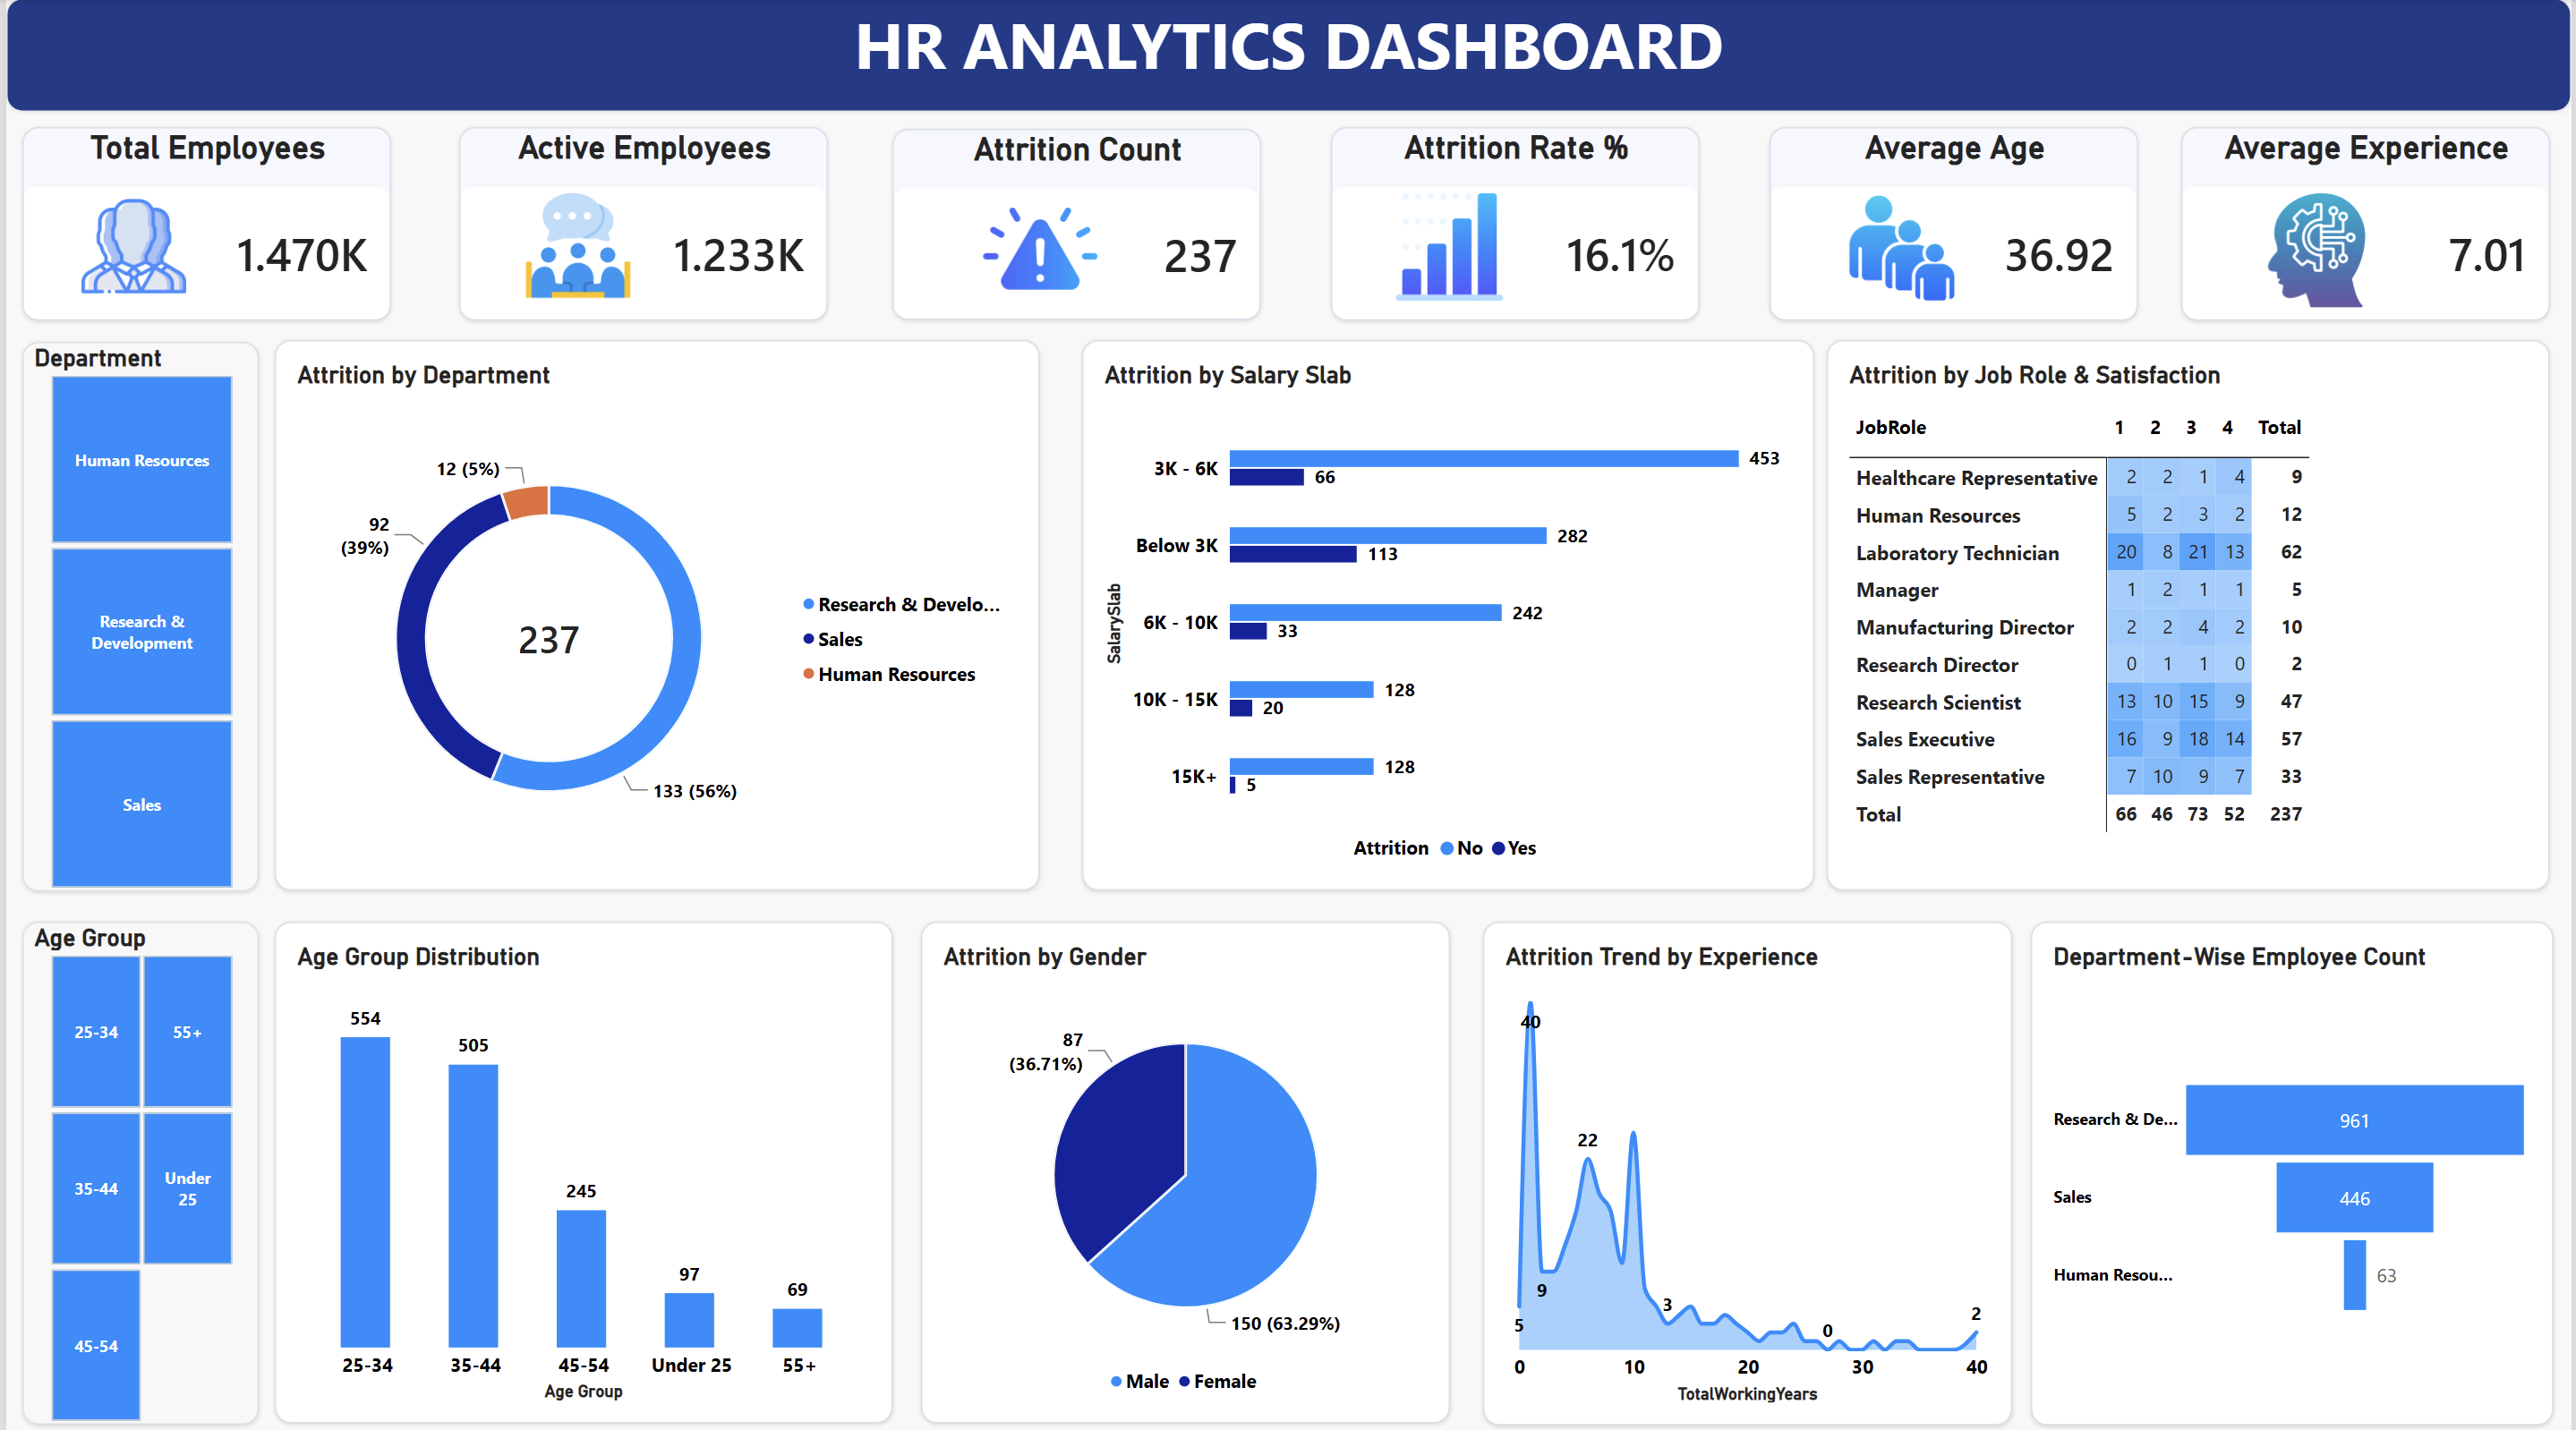

The dashboard page shown, as its layout file describes it:
{"tool":"powerbi","page":{"name":"Page 1","canvas":[1920,1080],"ordinal":0},"visuals":[{"type":"textbox","box":[0,0,1920,85.1],"z":0},{"type":"cardVisual","title":"Total Employees","fields":{"Data":["Employees.Headcounts"]},"box":[12.2,96,275.8,144.9],"z":1000},{"type":"cardVisual","title":"Active Employees","fields":{"Data":["Employees.Headcounts"]},"box":[338.6,96,275.8,144.9],"z":2000},{"type":"cardVisual","title":"Attrition Count","fields":{"Data":["Sum(Employees.AttritionCount)"]},"box":[663.3,97.7,275.8,143.1],"z":3000},{"type":"cardVisual","title":"Attrition Rate %","fields":{"Data":["Employees.Attrition Rate %"]},"box":[991.4,96,275.8,144.9],"z":4000},{"type":"cardVisual","title":"Average Age","fields":{"Data":["Avg(Employees.Age)"]},"box":[1319.6,96,275.8,144.9],"z":5000},{"type":"cardVisual","title":"Average Experience","fields":{"Data":["Avg(Employees.YearsAtCompany)"]},"box":[1628.5,96,275.8,144.9],"z":6000},{"type":"image","box":[55.9,113.5,78.5,143.1],"z":7000},{"type":"image","box":[338.6,144.9,178,80.3],"z":8000},{"type":"image","box":[684.2,144.9,178,85.5],"z":9000},{"type":"image","box":[1012.4,146.6,134.4,80.3],"z":10000},{"type":"image","box":[1335.3,146.6,165.8,82],"z":11000},{"type":"image","box":[1665.2,146.6,127.4,85.5],"z":12000},{"type":"donutChart","title":"Attrition by Department","fields":{"Category":["Employees.Department"],"Y":["Sum(Employees.AttritionCount)"]},"box":[200.7,256.6,572.5,411.9],"z":13000},{"type":"clusteredBarChart","title":"Attrition by Salary Slab","fields":{"Category":["Employees.SalarySlab"],"Series":["Employees.Attrition"],"Y":["Count(Employees.EmployeeNumber)"]},"box":[804.7,256.6,548.1,411.9],"z":14000},{"type":"pivotTable","title":"Attrition by Job Role & Satisfaction","fields":{"Columns":["Employees.JobSatisfaction"],"Rows":["Employees.JobRole"],"Values":["Sum(Employees.AttritionCount)"]},"box":[1363.2,256.6,541.1,411.9],"z":15000},{"type":"columnChart","title":"Age Group Distribution","fields":{"Category":["Employees.Age Group"],"Y":["Employees.Headcounts"]},"box":[200.7,691.2,462.5,375.3],"z":16000},{"type":"pieChart","title":"Attrition by Gender","fields":{"Category":["Employees.Gender"],"Y":["Sum(Employees.AttritionCount)"]},"box":[684.2,691.2,396.2,375.3],"z":17000},{"type":"areaChart","title":"Attrition Trend by Experience","fields":{"Category":["Employees.TotalWorkingYears"],"Y2":["Sum(Employees.AttritionCount)"]},"box":[1104.9,691.2,396.2,377],"z":18000},{"type":"funnel","title":"Department-Wise Employee Count","fields":{"Category":["Employees.Department"],"Y":["CountNonNull(Employees.EmployeeNumber)"]},"box":[1515.1,691.2,391,377],"z":19000},{"type":"slicer","fields":{"Values":["Employees.Department"]},"box":[12.2,256.9,177.1,411.4],"z":20000},{"type":"slicer","fields":{"Values":["Employees.Age Group"]},"box":[12.2,690.9,177.1,376.7],"z":20001}]}

Visuals, with their boxes in screenshot pixels (x1, y1, x2, y2), scaled from the page's 1920x1080 canvas onto the 2576x1430 screenshot:
textbox: locate(0, 0, 2575, 113)
"Total Employees" cardVisual: locate(16, 127, 387, 319)
"Active Employees" cardVisual: locate(455, 127, 824, 319)
"Attrition Count" cardVisual: locate(890, 130, 1260, 319)
"Attrition Rate %" cardVisual: locate(1330, 127, 1700, 319)
"Average Age" cardVisual: locate(1770, 127, 2140, 319)
"Average Experience" cardVisual: locate(2185, 127, 2555, 319)
image: locate(75, 150, 180, 340)
image: locate(455, 192, 693, 298)
image: locate(918, 192, 1156, 305)
image: locate(1359, 194, 1539, 301)
image: locate(1792, 194, 2014, 302)
image: locate(2234, 194, 2405, 307)
"Attrition by Department" donutChart: locate(269, 340, 1037, 885)
"Attrition by Salary Slab" clusteredBarChart: locate(1079, 340, 1815, 885)
"Attrition by Job Role & Satisfaction" pivotTable: locate(1829, 340, 2555, 885)
"Age Group Distribution" columnChart: locate(269, 915, 890, 1412)
"Attrition by Gender" pieChart: locate(918, 915, 1449, 1412)
"Attrition Trend by Experience" areaChart: locate(1482, 915, 2014, 1415)
"Department-Wise Employee Count" funnel: locate(2033, 915, 2557, 1415)
slicer - Employees.Department: locate(16, 340, 254, 885)
slicer - Employees.Age Group: locate(16, 915, 254, 1414)
